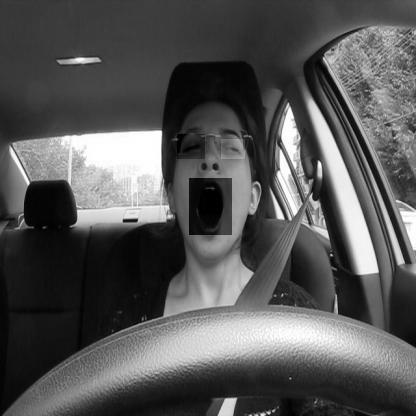seatbelt: (149, 73, 302, 416)
